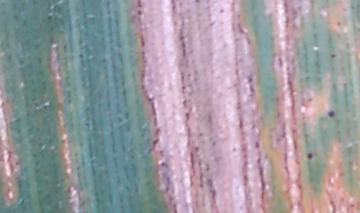tarspot: (304, 150, 317, 163), (325, 108, 337, 121), (329, 51, 339, 62)
